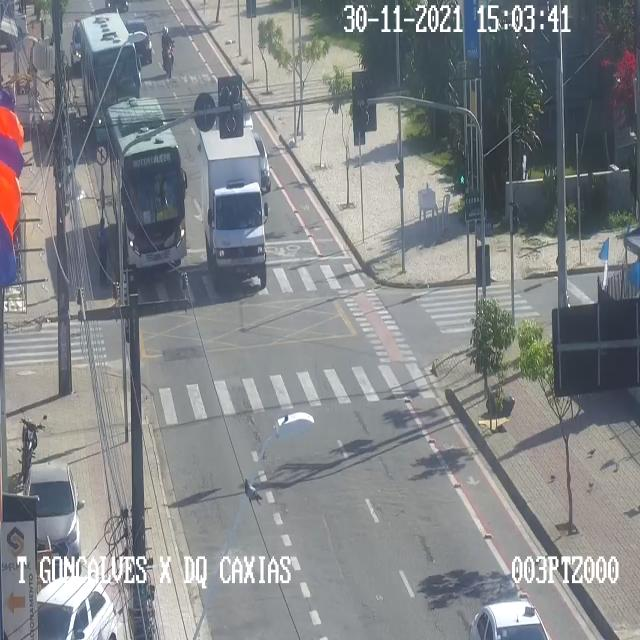Bus: (108, 99, 186, 263), (80, 11, 138, 140)
Car: (26, 462, 80, 572), (37, 575, 117, 639), (465, 592, 553, 640), (253, 132, 273, 188), (125, 18, 151, 61), (237, 89, 262, 130), (67, 21, 86, 73), (101, 0, 135, 13)
Motorcycle: (21, 418, 37, 482), (161, 25, 174, 76)
Truck: (200, 127, 265, 276)
